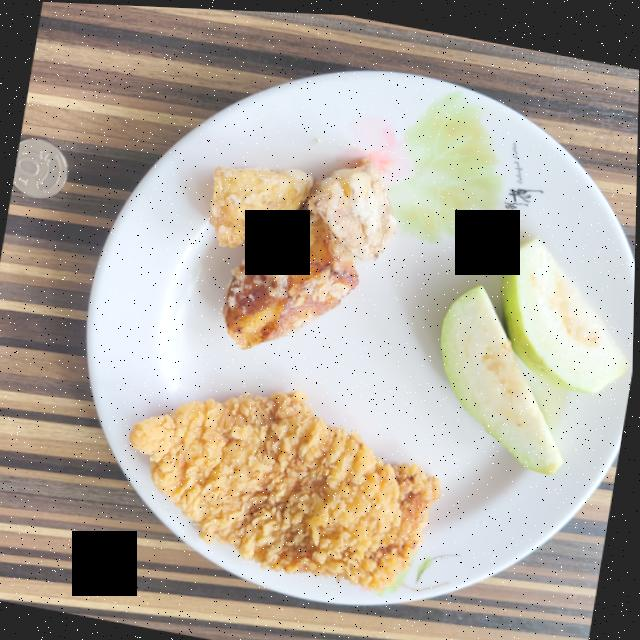coin: (13, 138, 67, 198)
fried chicken cutlet: (131, 388, 442, 588)
fried potato: (210, 154, 397, 347)
guava -sliced-: (441, 233, 630, 469)
